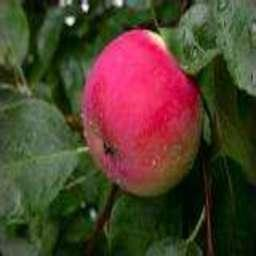apple: (78, 30, 204, 196)
